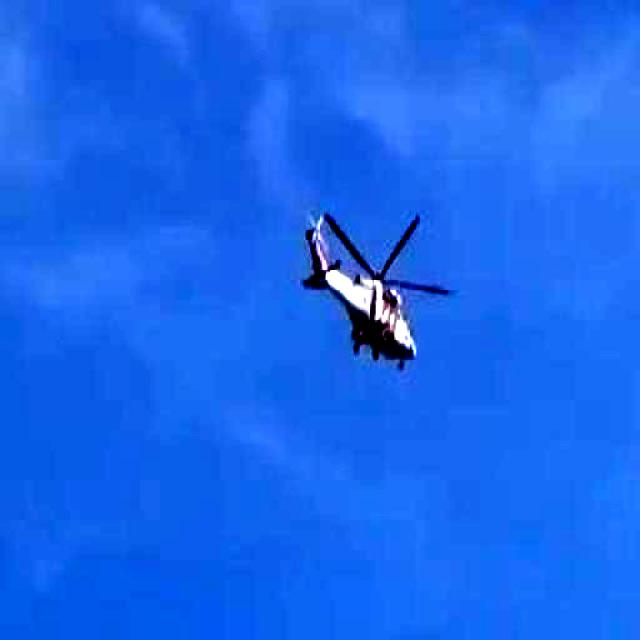drone: (232, 108, 534, 435)
